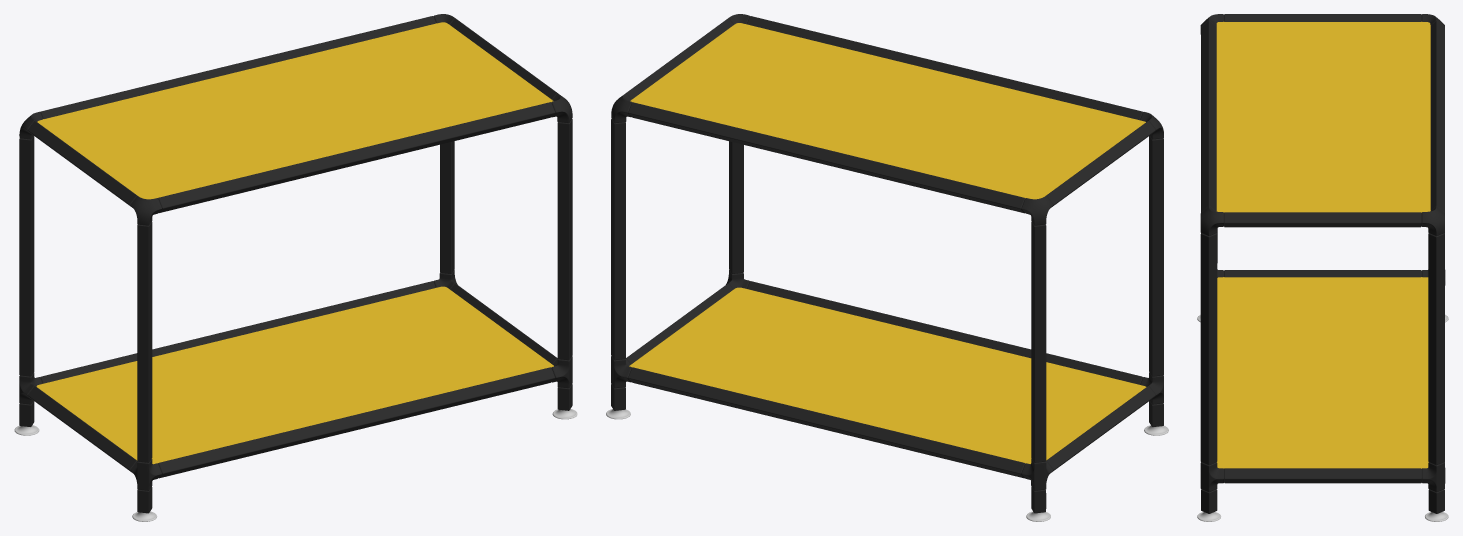
3 renders of one model, left to right at view 1: azimuth 30°, elevation 25°; view 2: azimuth 150°, elevation 25°; view 3: azimuth 270°, elevation 25°, orthographic. The views are drawn at different scales.
Visible parts, largest first — view 1: 729x329x420; view 2: 729x329x420; view 3: 729x329x420.
Part boxes in pixels (left/top/right/bottom): 729x329x420: left=14, top=14, right=577, bottom=521; 729x329x420: left=606, top=14, right=1168, bottom=521; 729x329x420: left=1197, top=14, right=1448, bottom=521.
Size of the model in its own units: 0.8189 by 0.5593 by 0.4182.
